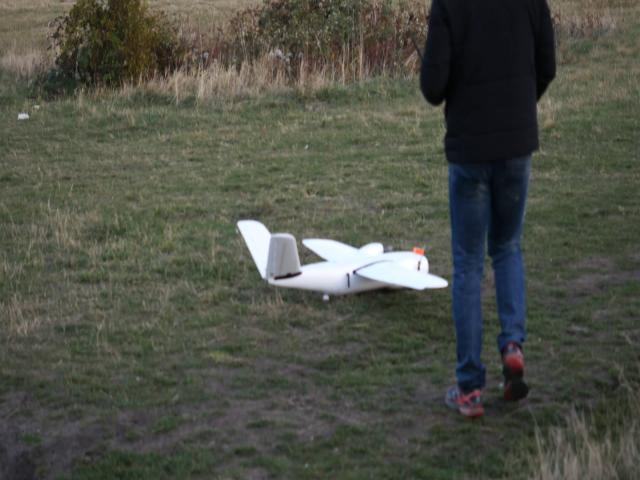plane: (237, 220, 449, 292)
